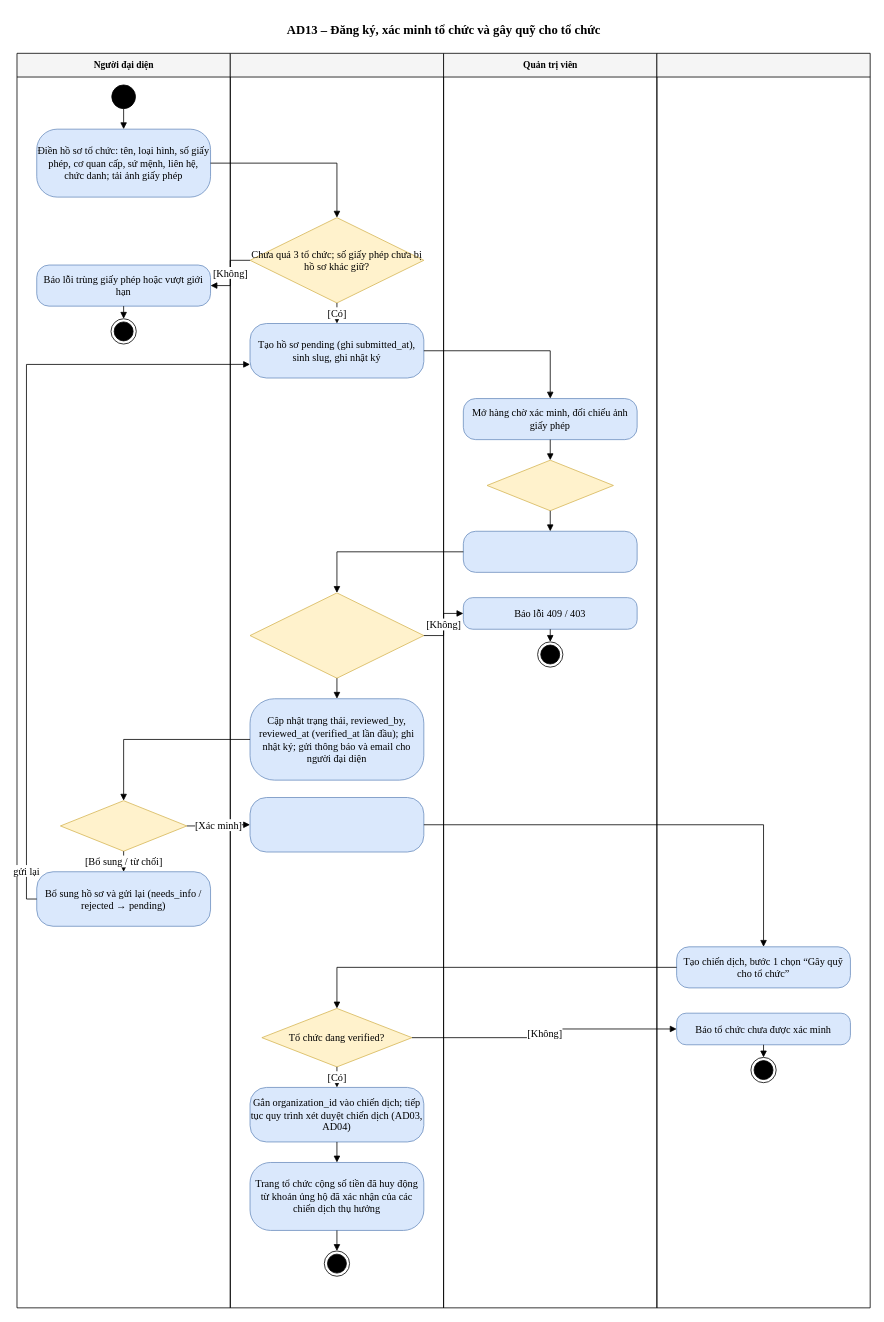
This 884x1322 diagram has some shape labels left out. Each missing label, with the box of its shape:
Hệ thống: (229, 53, 444, 1308)
Kết quả?: (60, 800, 187, 851)
Người tạo chiến dịch: (656, 53, 870, 1308)
Nhập lý do (≥ 10 ký tự) khi yêu cầu bổ sung hoặc từ chối: (463, 530, 637, 572)
Quyết định?: (486, 459, 613, 511)
Tổ chức verified: hiện trang công khai /to-chuc/[slug], khóa thông tin pháp lý: (249, 797, 424, 852)
Đúng ma trận xét duyệt, không tự xét tổ chức của mình?: (249, 592, 424, 678)
